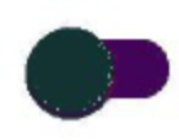Switch: (1, 1, 178, 139)
